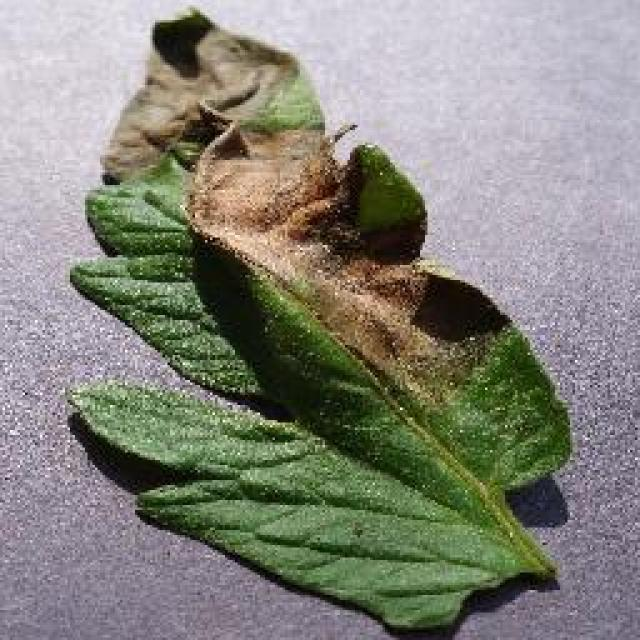Tomato Late Blight: (97, 5, 538, 422)
